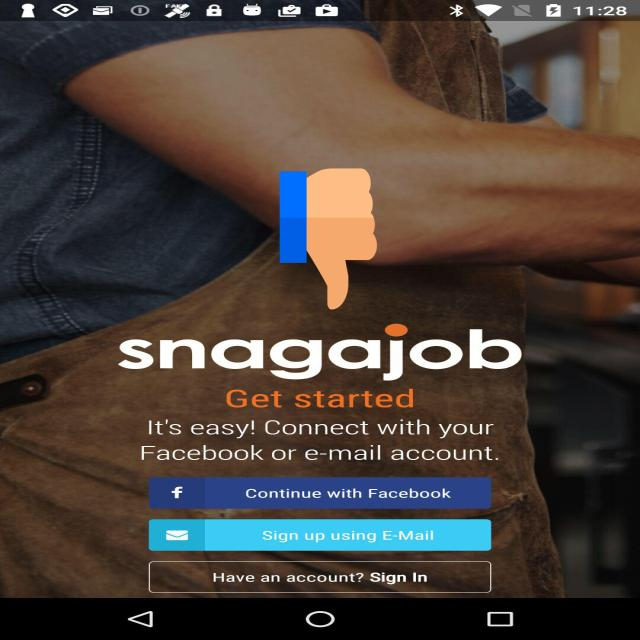obstruction: (280, 165, 377, 313)
